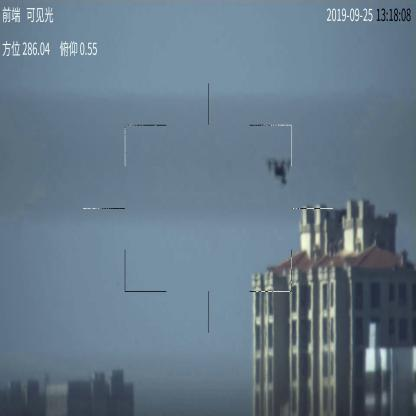uav: (266, 156, 294, 185)
